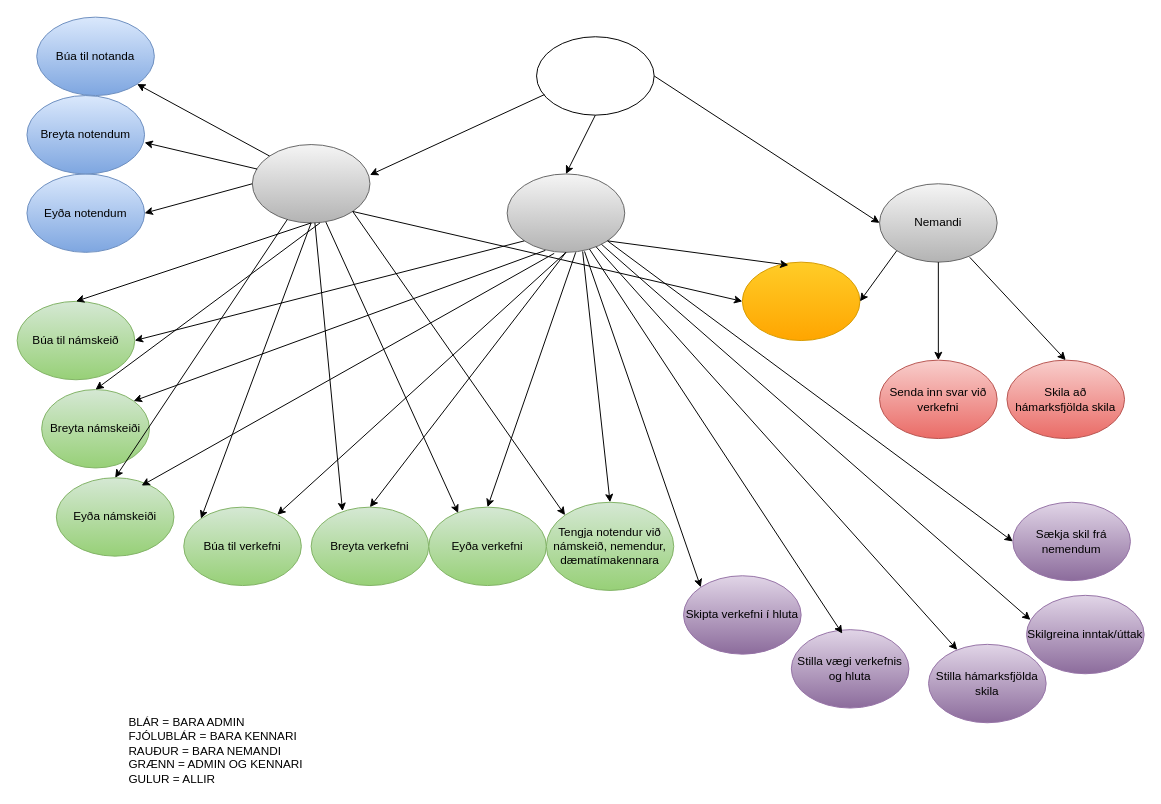
This 1161x804 diagram has some shape labels left out. The shapes that lost their labels are listed below. From the top down, each one's centre as x and y in pixels, then its label:
At point 595,75: "Log in".
At point 310,183: "Admin".
At point 565,212: "Kennari".
At point 800,301: "Skoða sögu skila".
